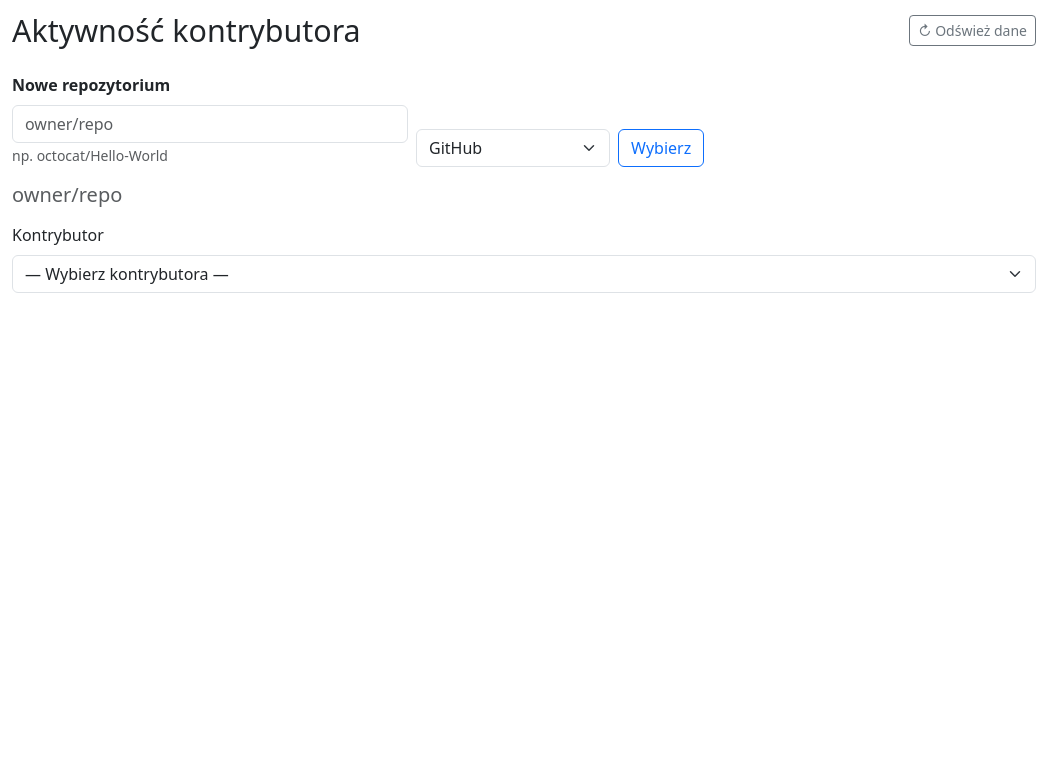
Test: ActivityDashboardPage tabs › switches to Aktywność tab showing heatmap and chart
Select "alice (10 PR-ów)" in the dropdown labelled "Kontrybutor" at (524, 274), box top-left (12, 254), bottom-right (1036, 292)
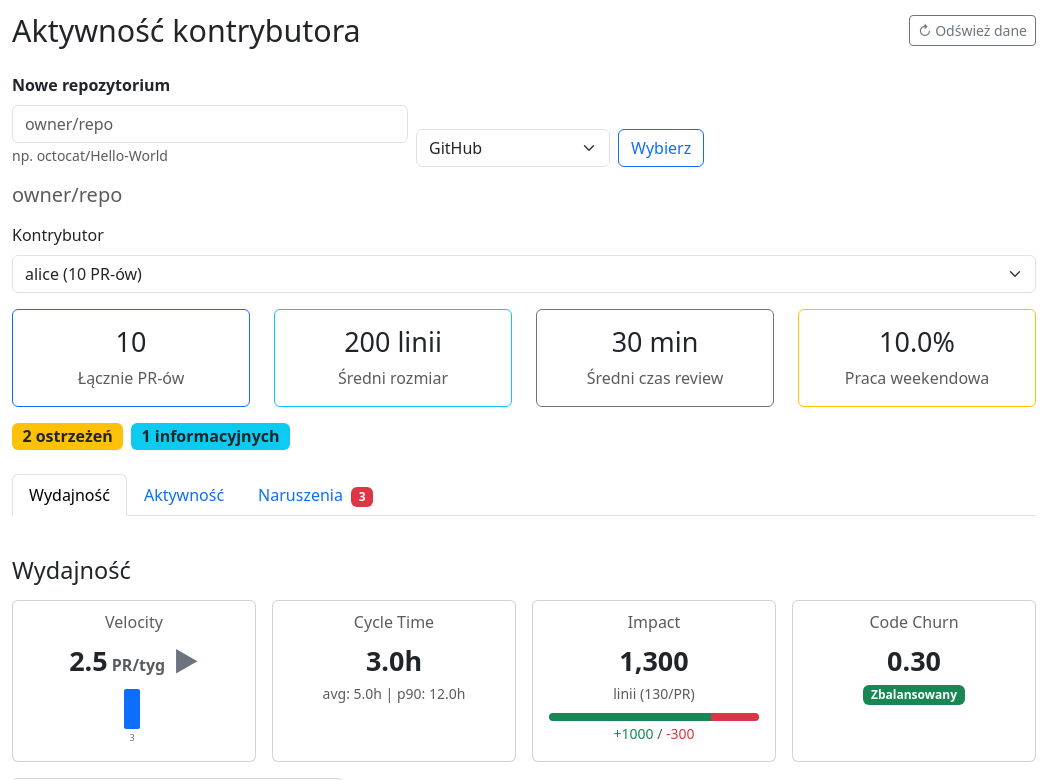
Result: the element showing "Wydajność Aktywność Naruszenia 3" is shown at top-left (12, 474), bottom-right (1036, 516)
Click the tab "Aktywność" at (184, 495), box top-left (144, 484), bottom-right (224, 506)
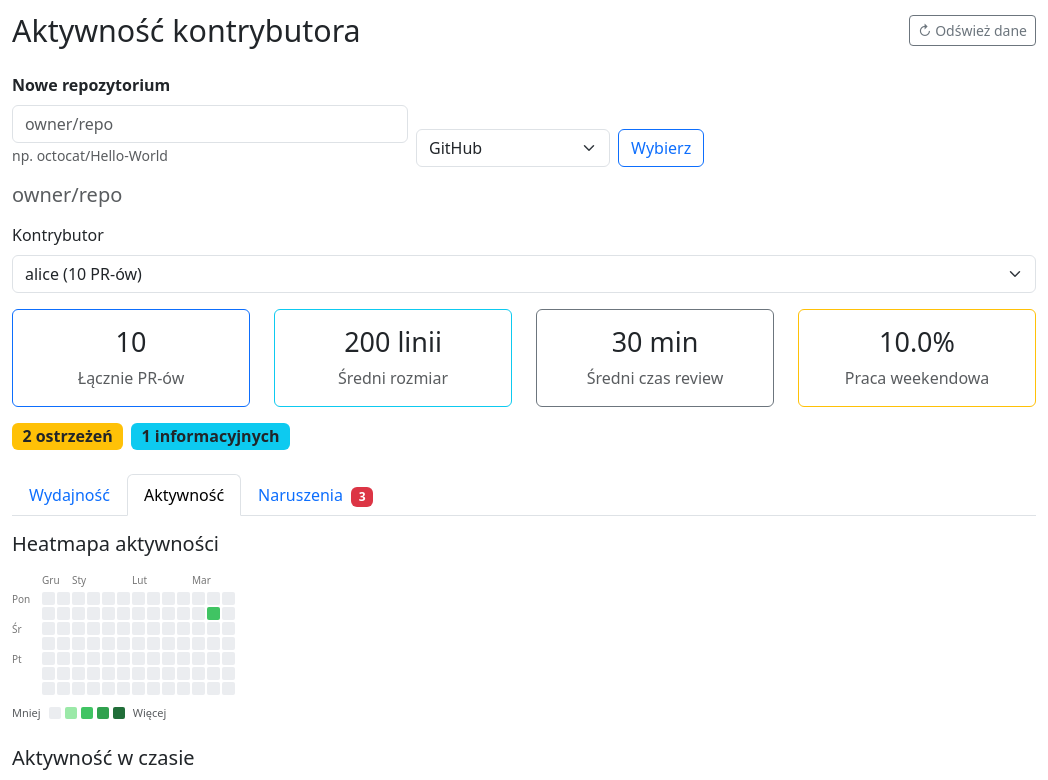
Result: the heading "Heatmapa aktywności" is shown at top-left (12, 530), bottom-right (219, 557)
Result: the heading "Aktywność w czasie" is shown at top-left (12, 744), bottom-right (195, 771)
